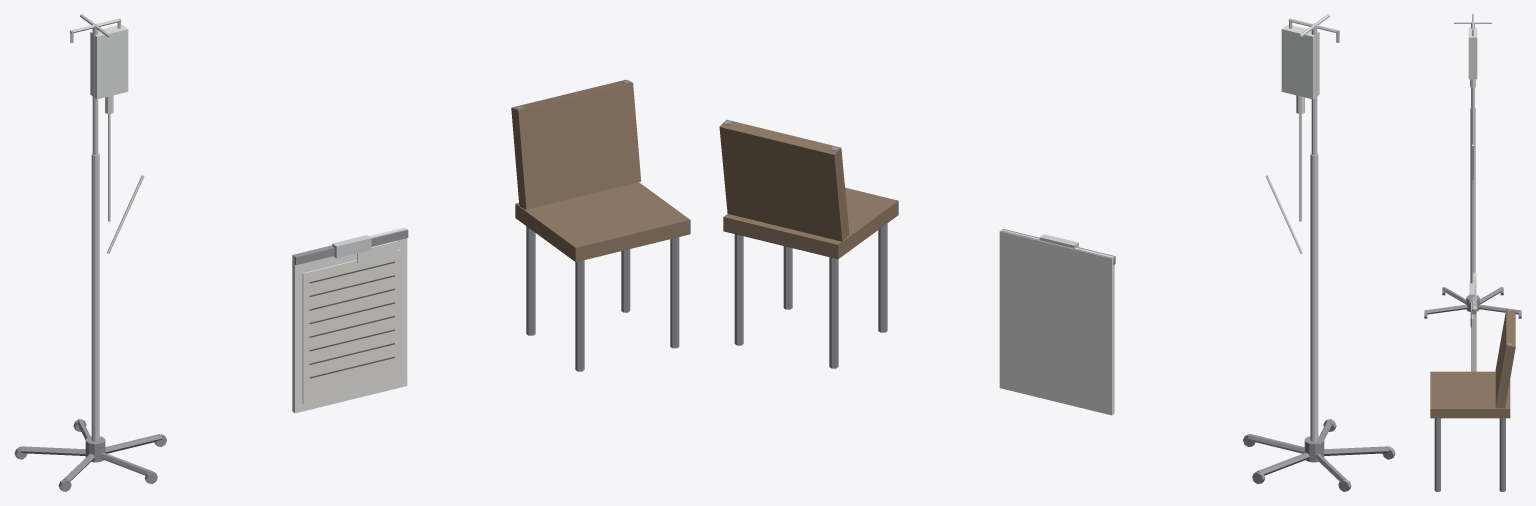
Rendered from Prop_HospitalSet.fbx.
3 views of the same model, side by side, from view 1: azimuth 30°, elevation 25°; view 2: azimuth 150°, elevation 25°; view 3: azimuth 270°, elevation 25° (orthographic). The views are drawn at different scales.
Parts seen in each view (by area): view 1: Prop_Chair, Prop_WallChart, Prop_IVStand; view 2: Prop_Chair, Prop_WallChart, Prop_IVStand; view 3: Prop_Chair, Prop_IVStand, Prop_WallChart.
Part boxes in pixels (x1,y1,x2,y2): Prop_Chair: [511, 79, 690, 371]; Prop_WallChart: [292, 227, 408, 413]; Prop_IVStand: [14, 14, 166, 491]; Prop_Chair: [719, 119, 898, 368]; Prop_WallChart: [999, 229, 1115, 415]; Prop_IVStand: [1243, 14, 1395, 491]; Prop_Chair: [1430, 308, 1515, 491]; Prop_IVStand: [1424, 14, 1521, 327]; Prop_WallChart: [1469, 272, 1476, 371].
Size of the model in its own units: 249 by 168 by 51.05.
